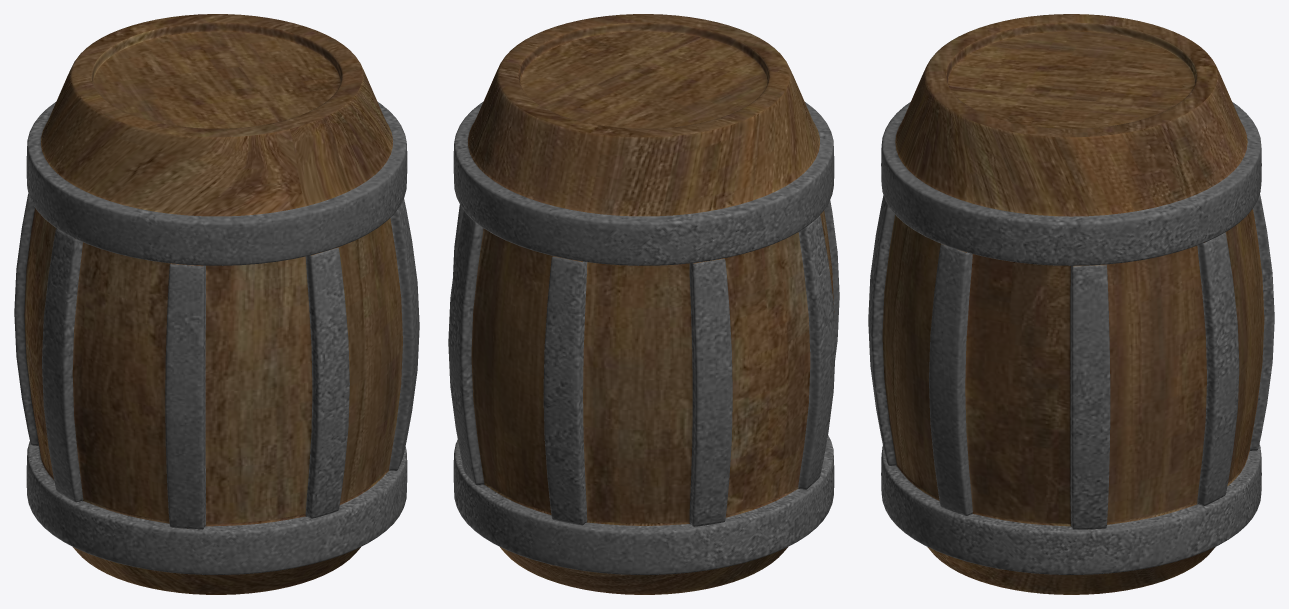
File: barrel4.fbx
3 views of the same model, side by side, from view 1: azimuth 30°, elevation 25°; view 2: azimuth 150°, elevation 25°; view 3: azimuth 270°, elevation 25° (orthographic).
Visible parts, largest first — view 1: Cylinder; view 2: Cylinder; view 3: Cylinder.
Boxes of the visible parts, <box> form: Cylinder: <box>14,14,419,594</box>; Cylinder: <box>448,14,839,594</box>; Cylinder: <box>868,14,1274,594</box>.
Bounding box in the file's own units: 230 × 287 × 230.
Materials: 2 (2 with a texture image).
